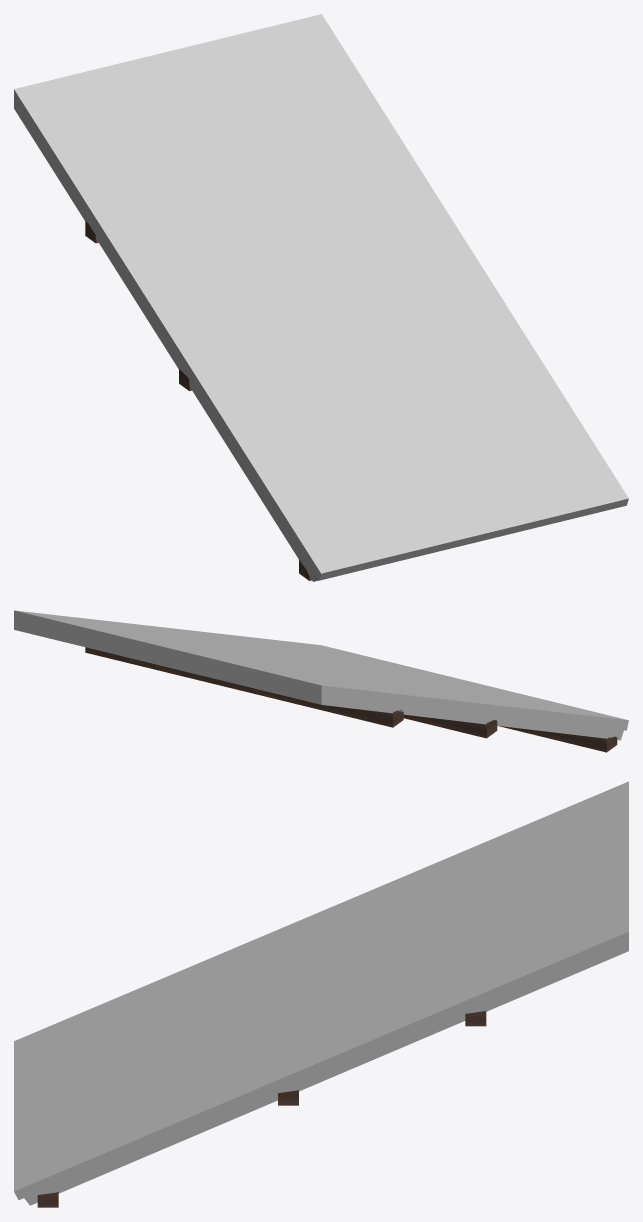
File: kawara_1x3t_a1middle.fbx
3 views of the same model, one above another, from view 1: azimuth 30°, elevation 25°; view 2: azimuth 150°, elevation 25°; view 3: azimuth 270°, elevation 25° (orthographic).
Parts seen in each view (by area): view 1: kawara_1x3t_a1middle; view 2: kawara_1x3t_a1middle; view 3: kawara_1x3t_a1middle.
Boxes of the visible parts, box(x1,y1,x2,y2) form: kawara_1x3t_a1middle: box(14, 14, 628, 581); kawara_1x3t_a1middle: box(14, 610, 628, 752); kawara_1x3t_a1middle: box(14, 781, 628, 1207).
Bounding box in the file's own units: 220 × 188 × 380.
